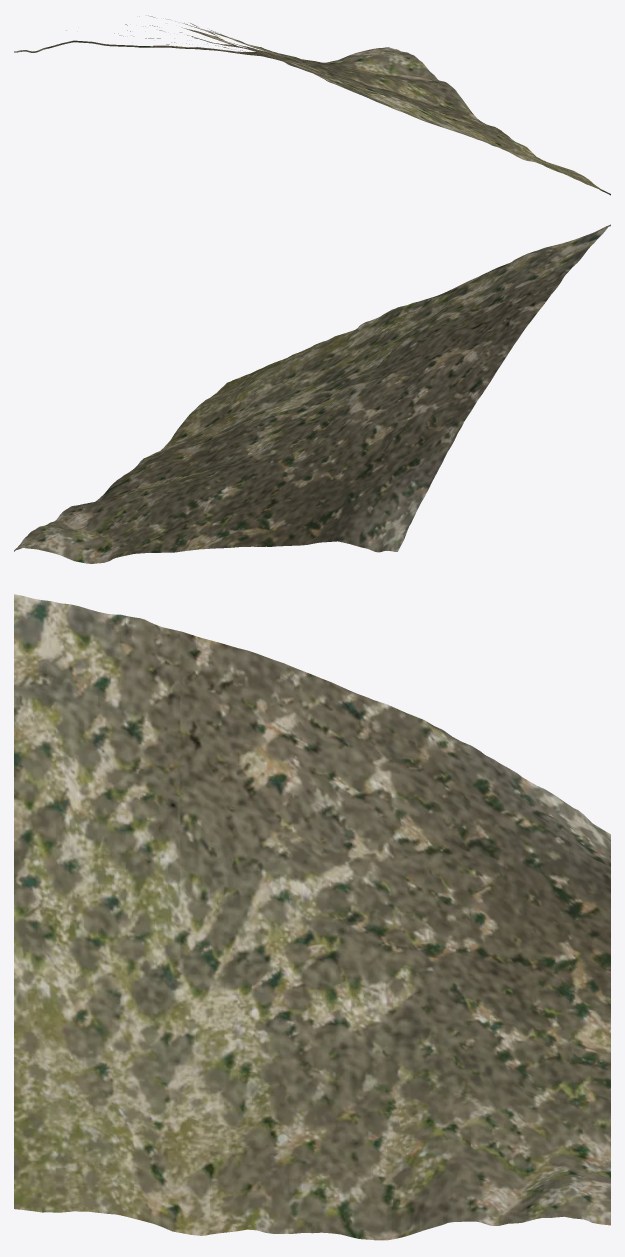
3 renders of one model, top to bottom at view 1: azimuth 30°, elevation 25°; view 2: azimuth 150°, elevation 25°; view 3: azimuth 270°, elevation 25°, orthographic. The views are drawn at different scales.
Size of the model in its own units: 250 by 172 by 241.
1 material, 1 textured.
